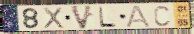8: (21, 7, 40, 30)
A: (125, 4, 152, 28)
C: (154, 5, 172, 27)
L: (97, 6, 118, 28)
V: (69, 5, 95, 31)
X: (42, 6, 66, 30)
